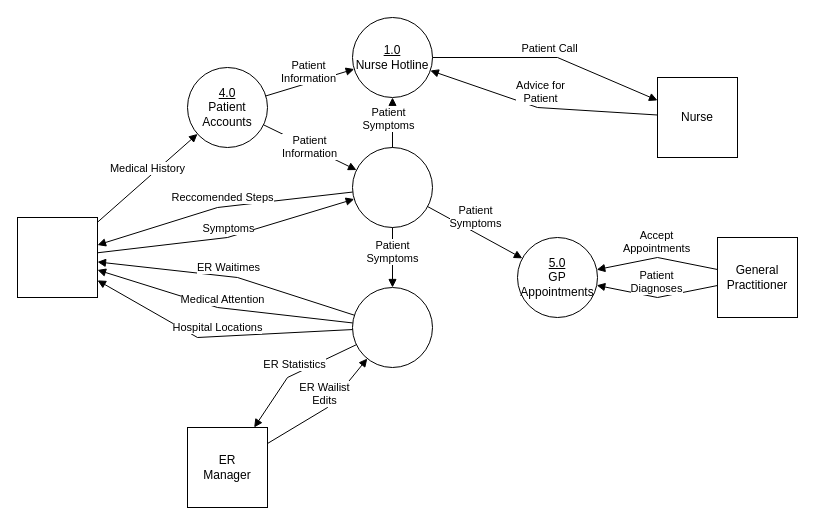
This 815x525 diagram has some shape labels left out. The centre of each missing label's shape, as x and y in pixels:
"2.0 Virtual Triage" belongs at point (392, 187).
"3.0 Emergency Rooms" belongs at point (392, 327).
"Patient" belongs at point (57, 257).
